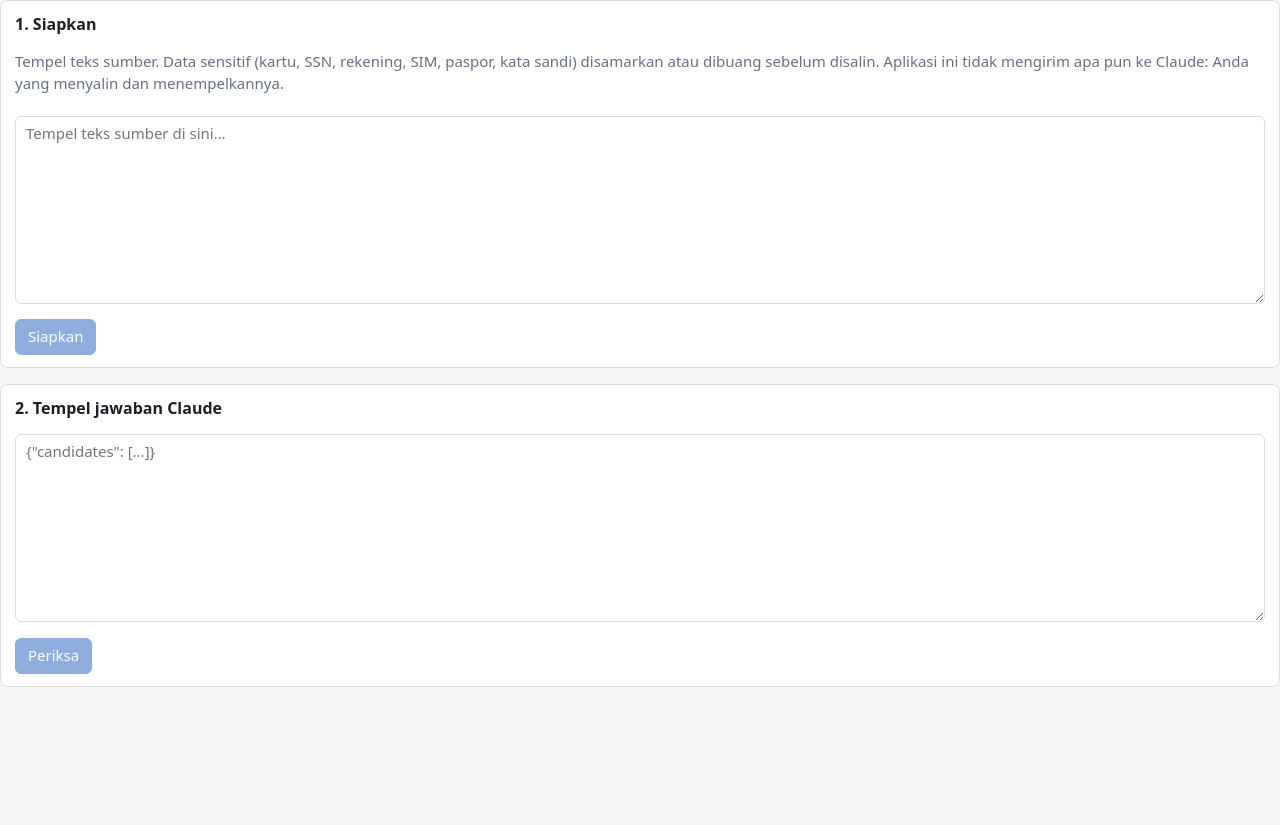
Test case: BridgeTab › prepares the prompt, warns, and copies it with the clipboard (nothing is stored)
This screenshot has width=1280, height=825.
In the text box labelled "teks sumber": (640,210) [15, 116, 1265, 304], type "Example text"
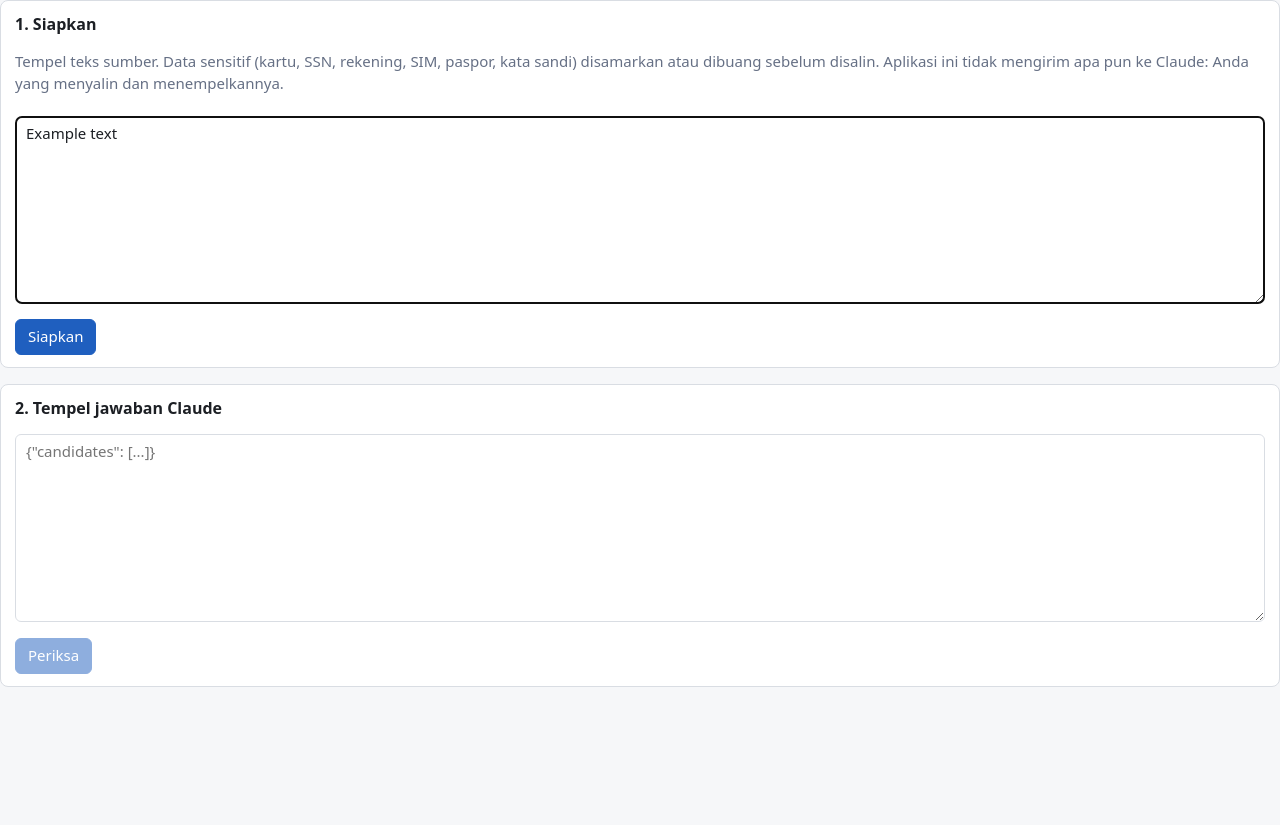
Click the button "Siapkan": (56,337) [15, 319, 96, 355]
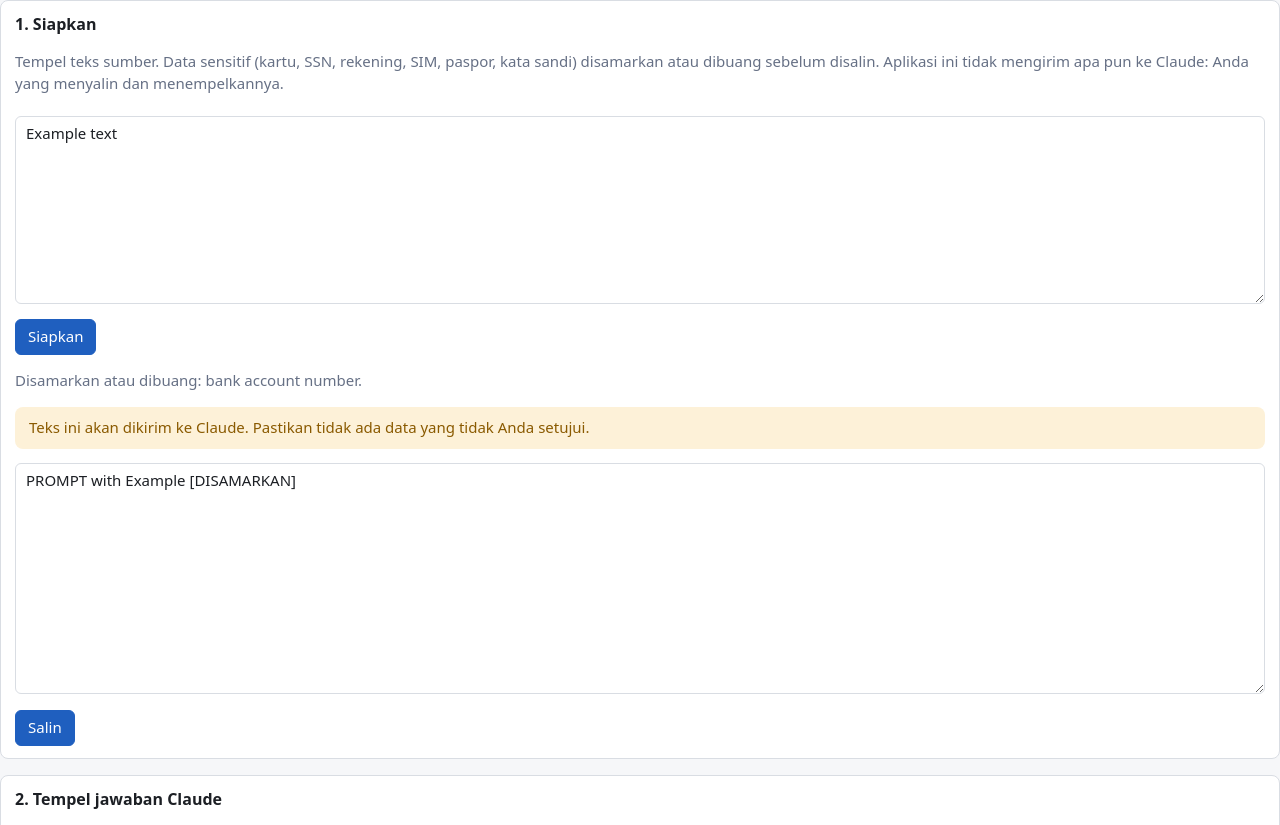
Check: the text "Teks ini akan dikirim ke Claude. Pastikan tidak ada data yang tidak Anda setujui." is shown, box [29, 417, 590, 437]
Check: the text "Disamarkan atau dibuang: bank account number." is shown, box [15, 370, 362, 390]
Click the button "Salin": (45,728) [15, 710, 75, 746]
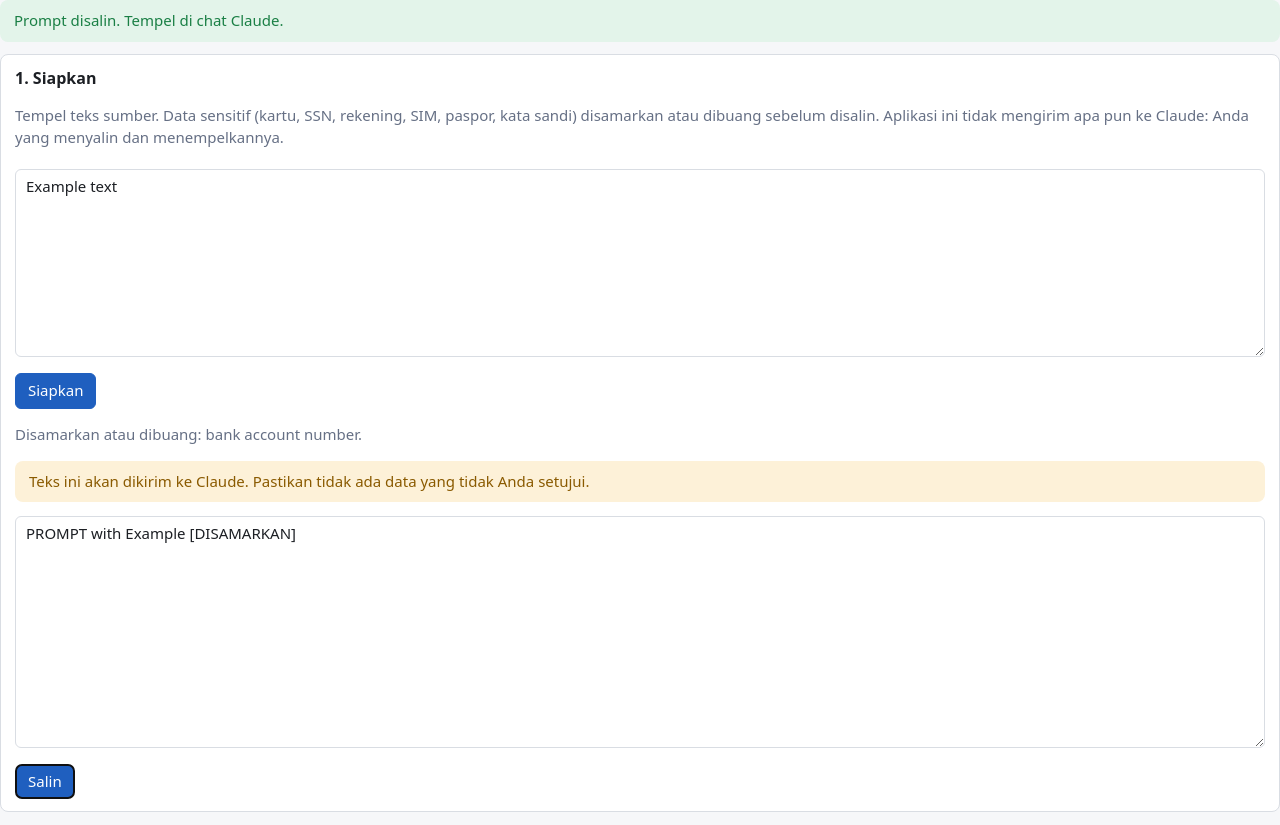
Check: the text "Prompt disalin. Tempel di chat Claude." is shown, box [0, 0, 1279, 42]
